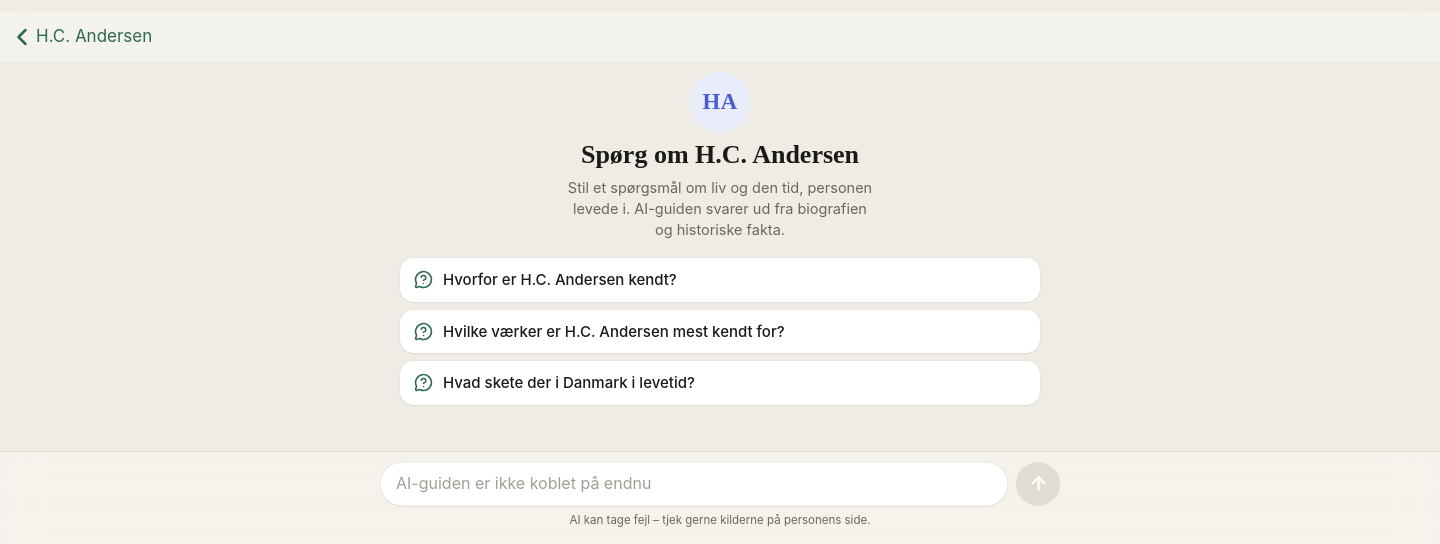
Test: AskPage › shows the intro, suggestions and an offline composer without a backend
expect the heading "Spørg om H.C. Andersen" is shown: met, box [581, 140, 859, 169]
expect the text box with placeholder "AI-guiden er ikke koblet på endnu" is shown: met, box [380, 462, 1008, 506]
Click the button "Hvorfor er H.C. Andersen kendt?": (560, 280) [400, 258, 1040, 302]
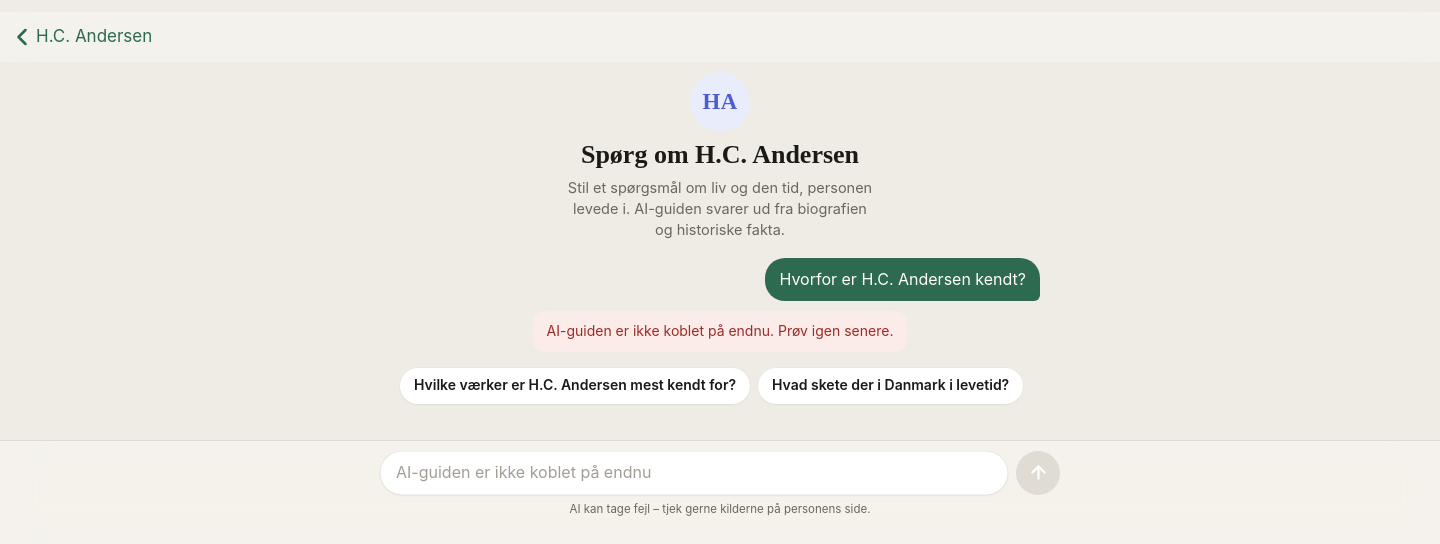
expect the text "AI-guiden er ikke koblet på endnu. Prøv igen senere." is shown: met, box [546, 321, 893, 342]
